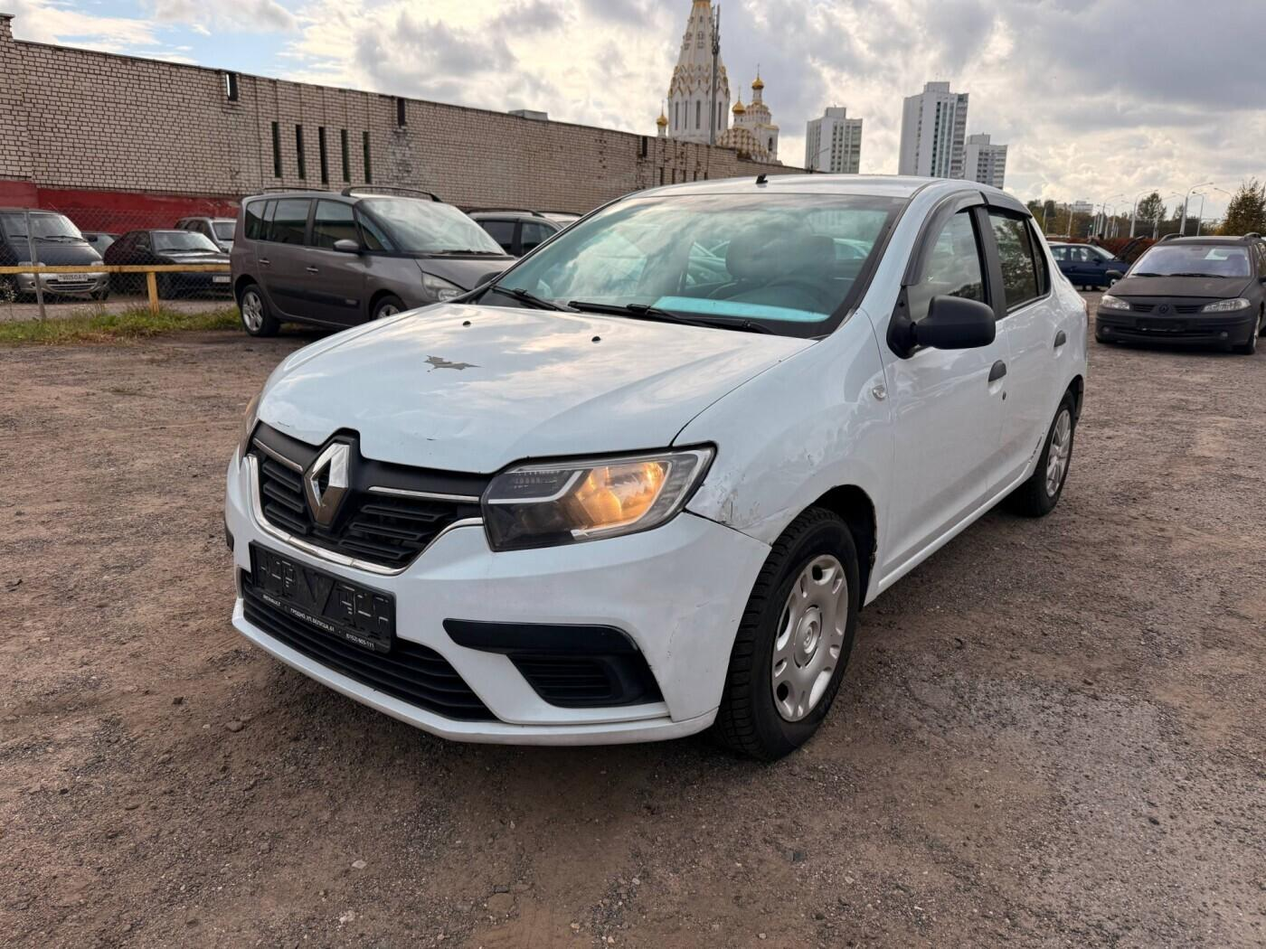Logan_2018: (211, 169, 1098, 751)
